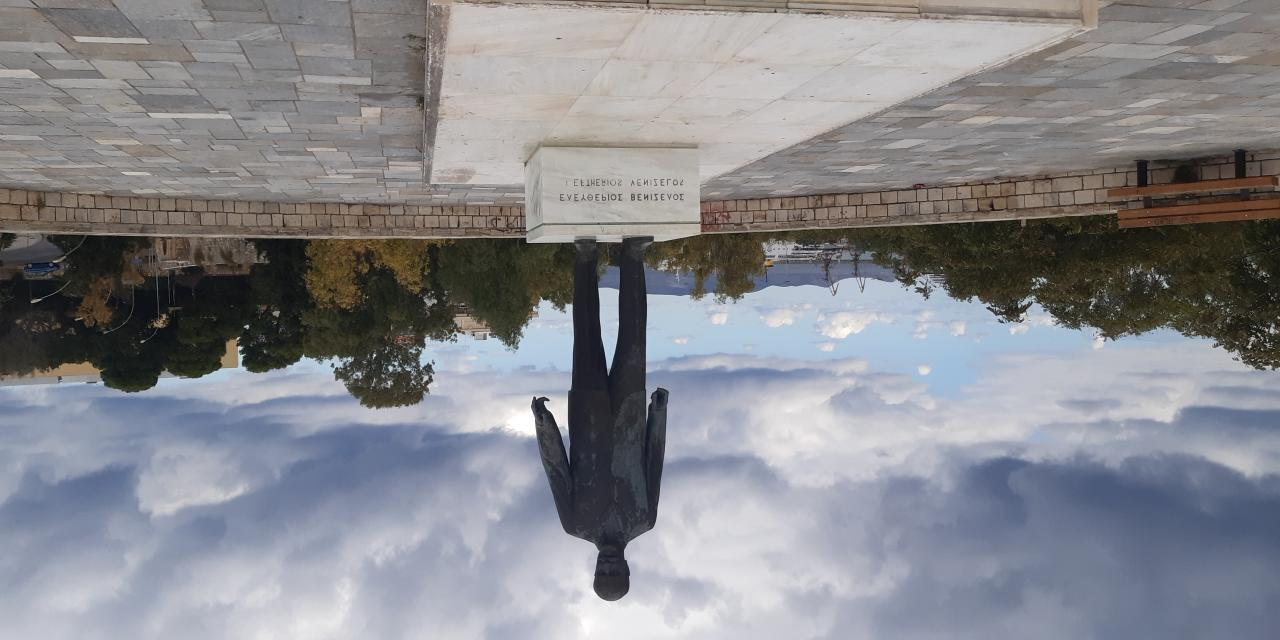Venizelos: (531, 236, 674, 604)
